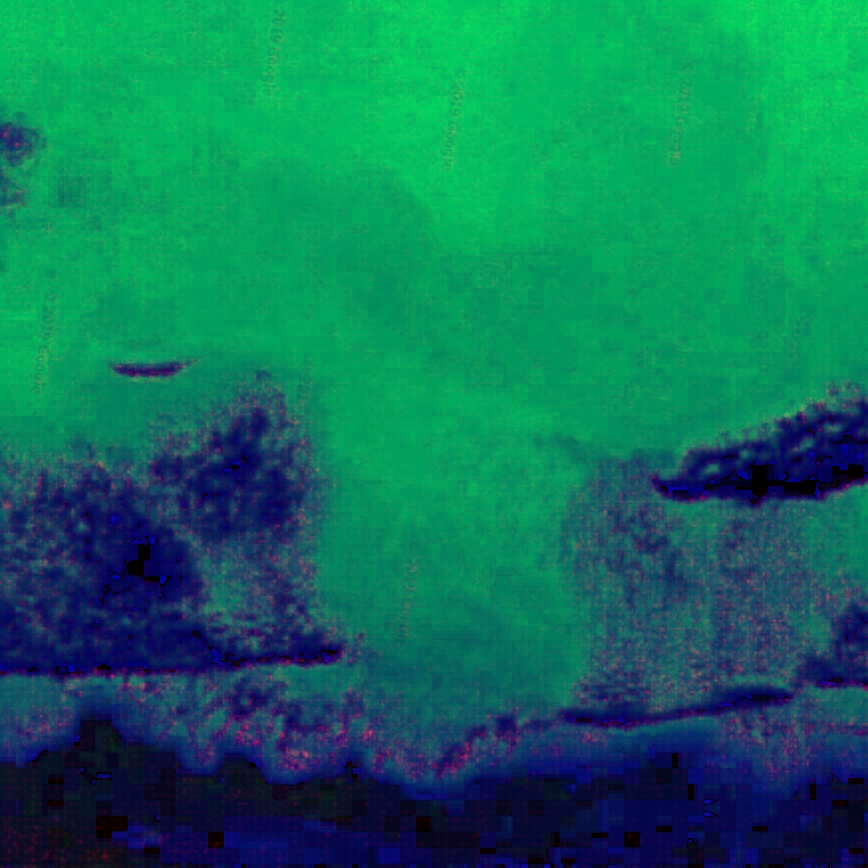rip_current: (233, 234, 677, 721)
